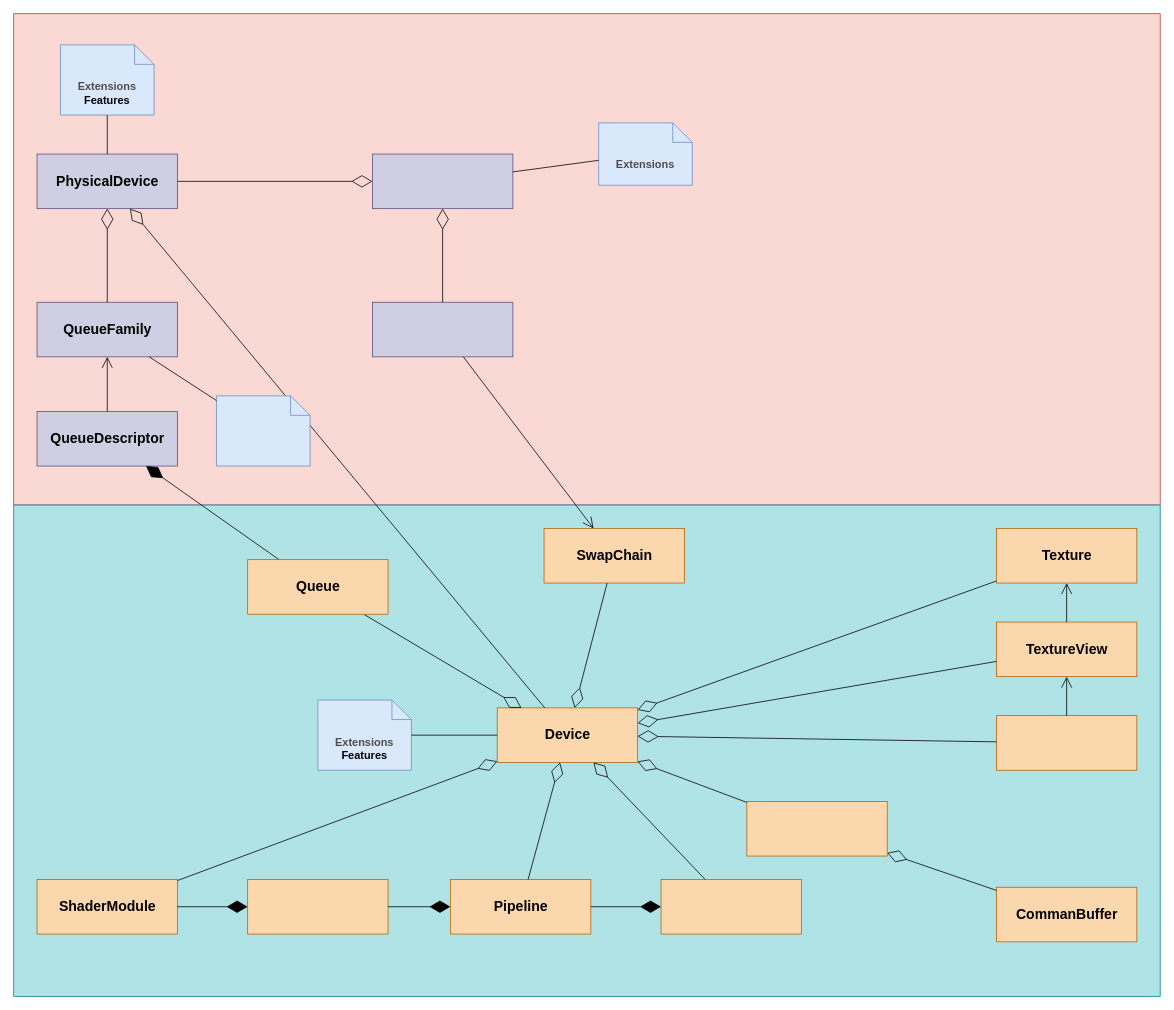
The diagram is 1174 pixels wide and 1010 high, and some of its shapes have lost their labels. Here are the shapes that lost their labels. From the top down, the centre of each, then its label:
the point at 442,181: Driver
the point at 442,329: Surface
the point at 263,430: QueueTypes Count
the point at 1066,742: FrameBuffer
the point at 816,828: CommanPool
the point at 317,906: ShaderProgram
the point at 730,906: RenderPass
